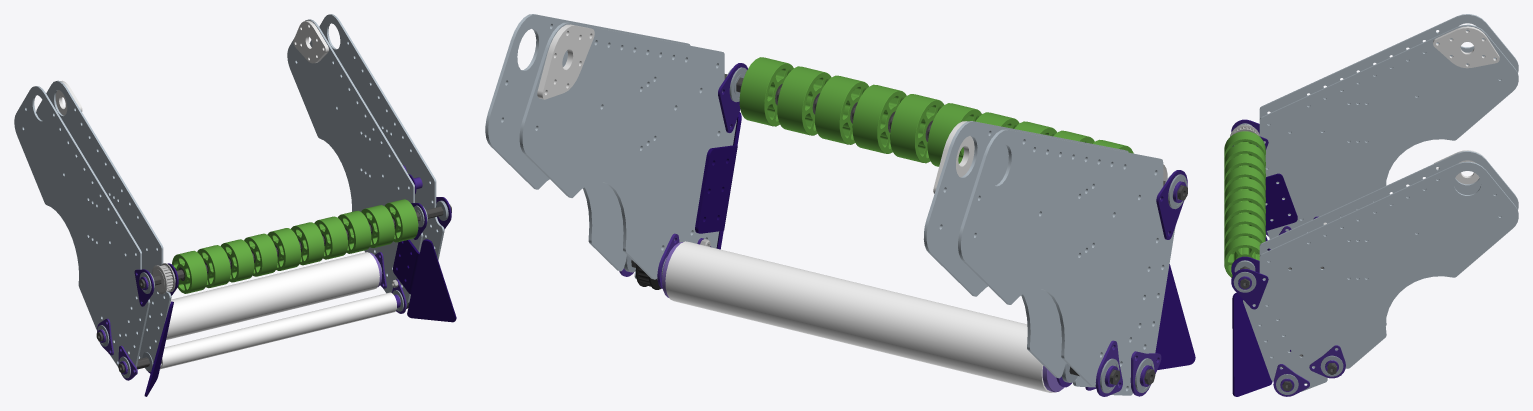
3 renders of one model, left to right at view 1: azimuth 30°, elevation 25°; view 2: azimuth 150°, elevation 25°; view 3: azimuth 270°, elevation 25°, orthographic. The views are drawn at different scales.
Visible parts, largest first — view 1: Main Moving Plate (×4), am-3949 2.25N OverMolded 500Hex Compliant Wheel V6 (×10), Rear Lower Roller Silicone, Front Lower Roller Silicone, Left Intake Wing, Motor Plate Left, Right Intake Wing, 24t 9mm Wide 1/2" Hex Bore Double Flange 5mm HTD Aluminum Pu, Front Lower Hex Shaft; view 2: Main Moving Plate (×4), Rear Lower Roller Silicone, am-3949 2.25N OverMolded 500Hex Compliant Wheel V6 (×6), Motor Plate Left (×2), Left Intake Wing, Right Intake Wing, Tall Bearing Holder (×2); view 3: Main Moving Plate (×4), am-3949 2.25N OverMolded 500Hex Compliant Wheel V6 (×10), Left Intake Wing, Motor Plate Left (×2), Right Intake Wing, Bearing Holder (×2), Tall Bearing Holder.
Part boxes in pixels (<box>): Main Moving Plate (×4): <box>14,14,444,367</box>; am-3949 2.25N OverMolded 500Hex Compliant Wheel V6 (×10): <box>172,199,418,293</box>; Rear Lower Roller Silicone: <box>166,252,379,339</box>; Front Lower Roller Silicone: <box>160,292,396,369</box>; Left Intake Wing: <box>393,239,456,322</box>; Motor Plate Left: <box>293,20,328,63</box>; Right Intake Wing: <box>144,301,173,396</box>; 24t 9mm Wide 1/2" Hex Bore Double Flange 5mm HTD Aluminum Pu: <box>151,263,175,294</box>; Front Lower Hex Shaft: <box>139,204,451,288</box>; Main Moving Plate (×4): <box>485,14,1175,395</box>; Rear Lower Roller Silicone: <box>665,241,1053,392</box>; am-3949 2.25N OverMolded 500Hex Compliant Wheel V6 (×6): <box>739,57,981,166</box>; Motor Plate Left (×2): <box>537,24,974,193</box>; Left Intake Wing: <box>695,112,741,249</box>; Right Intake Wing: <box>1155,264,1195,369</box>; Tall Bearing Holder (×2): <box>718,63,1187,239</box>; Main Moving Plate (×4): <box>1243,14,1518,391</box>; am-3949 2.25N OverMolded 500Hex Compliant Wheel V6 (×10): <box>1224,131,1265,277</box>; Left Intake Wing: <box>1232,292,1272,396</box>; Motor Plate Left (×2): <box>1433,26,1499,184</box>; Right Intake Wing: <box>1265,173,1297,250</box>; Bearing Holder (×2): <box>1273,345,1345,396</box>; Tall Bearing Holder: <box>1231,269,1268,309</box>.
Size of the model in its own units: 0.507 by 0.3532 by 0.4033.
